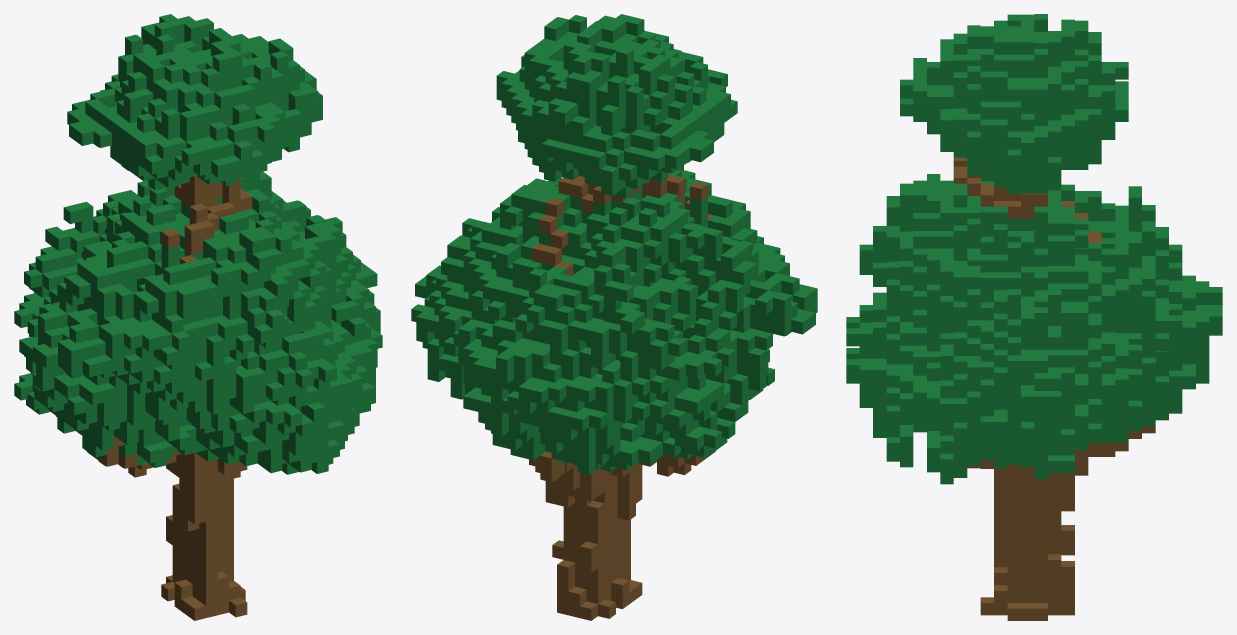
File: _arbol04.fbx
The picture shows the model from 3 angles, left to right: view 1: azimuth 30°, elevation 25°; view 2: azimuth 150°, elevation 25°; view 3: azimuth 270°, elevation 25°; orthographic projection.
Visible parts, largest first — view 1: _arbol04; view 2: _arbol04; view 3: _arbol04.
Boxes of the visible parts, box(x1,y1,x2,y2) form: _arbol04: box(14, 14, 382, 620); _arbol04: box(411, 14, 817, 620); _arbol04: box(846, 14, 1222, 620).
Size of the model in its own units: 310 by 470 by 280.
1 material, 1 textured.
